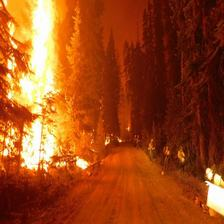fire: (2, 1, 127, 181)
